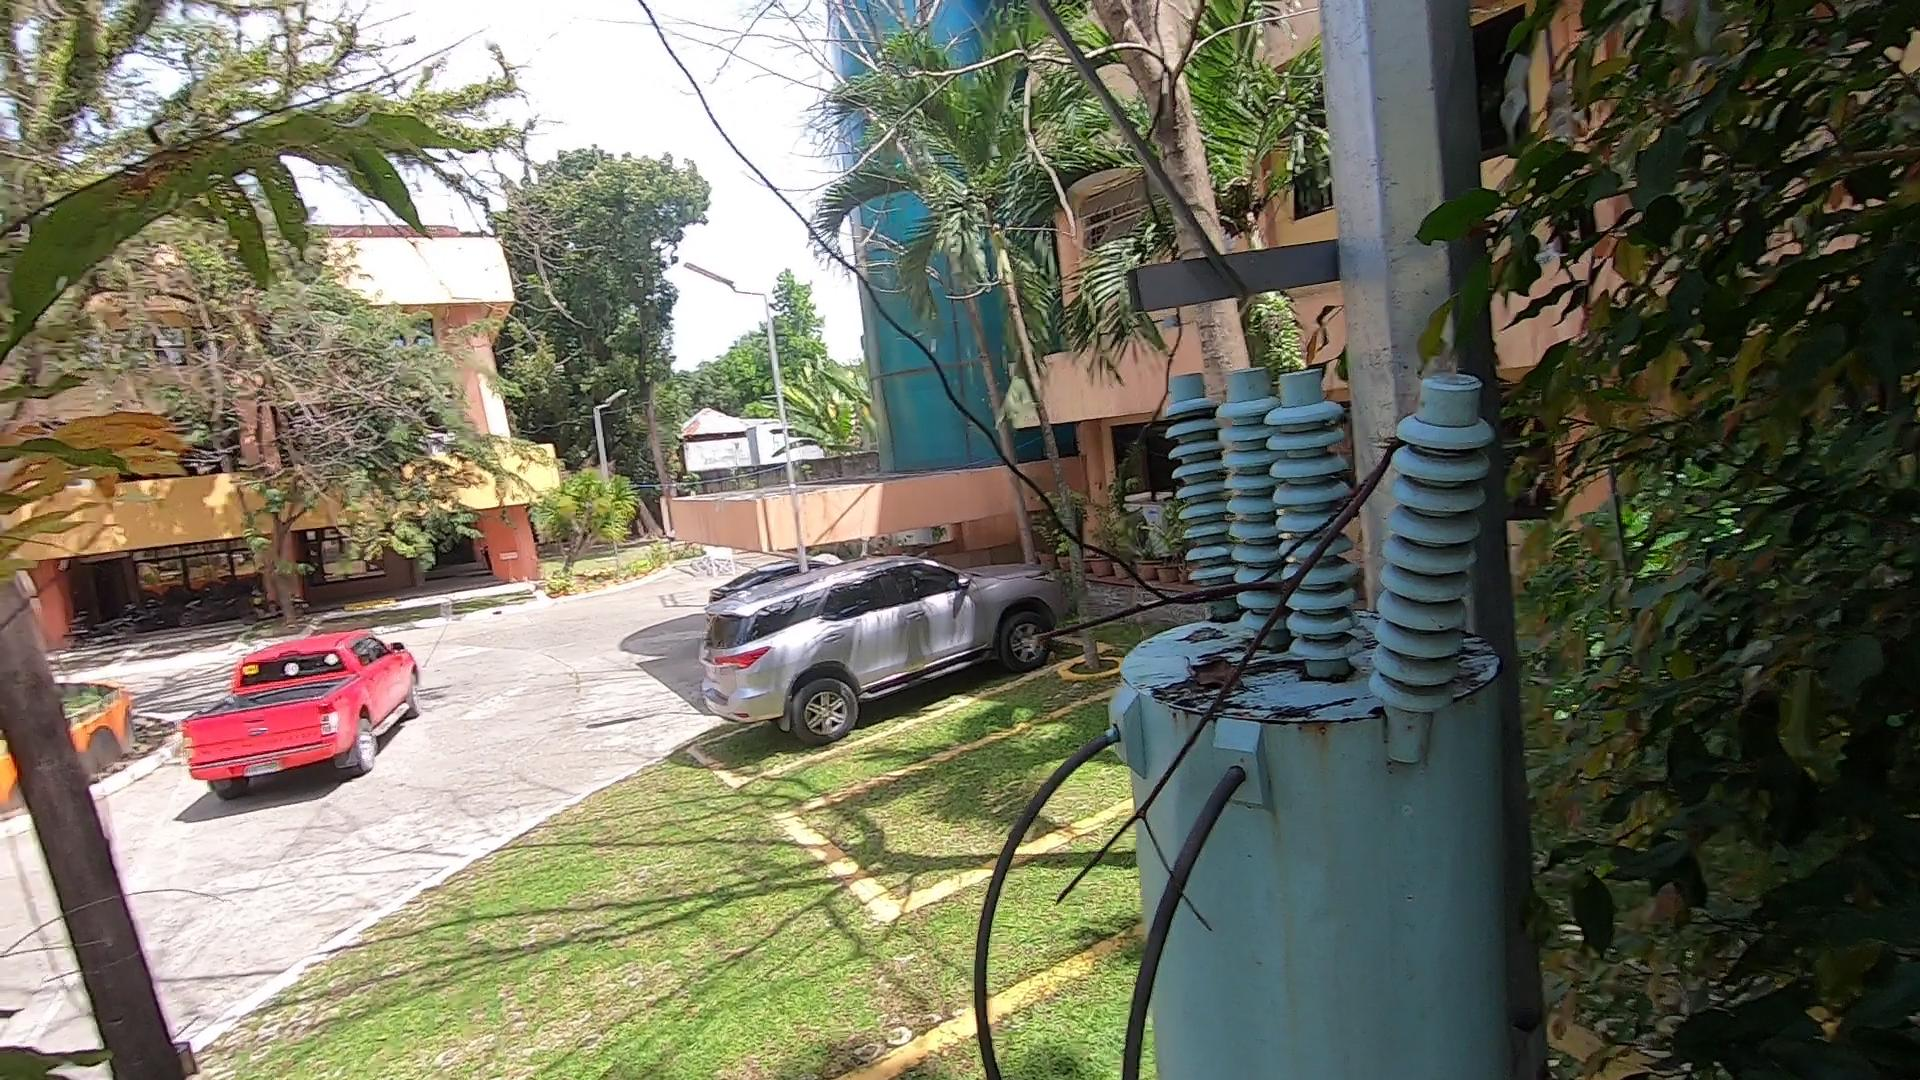leaf: (1145, 637, 1255, 713)
tree branch: (960, 415, 1445, 953)
